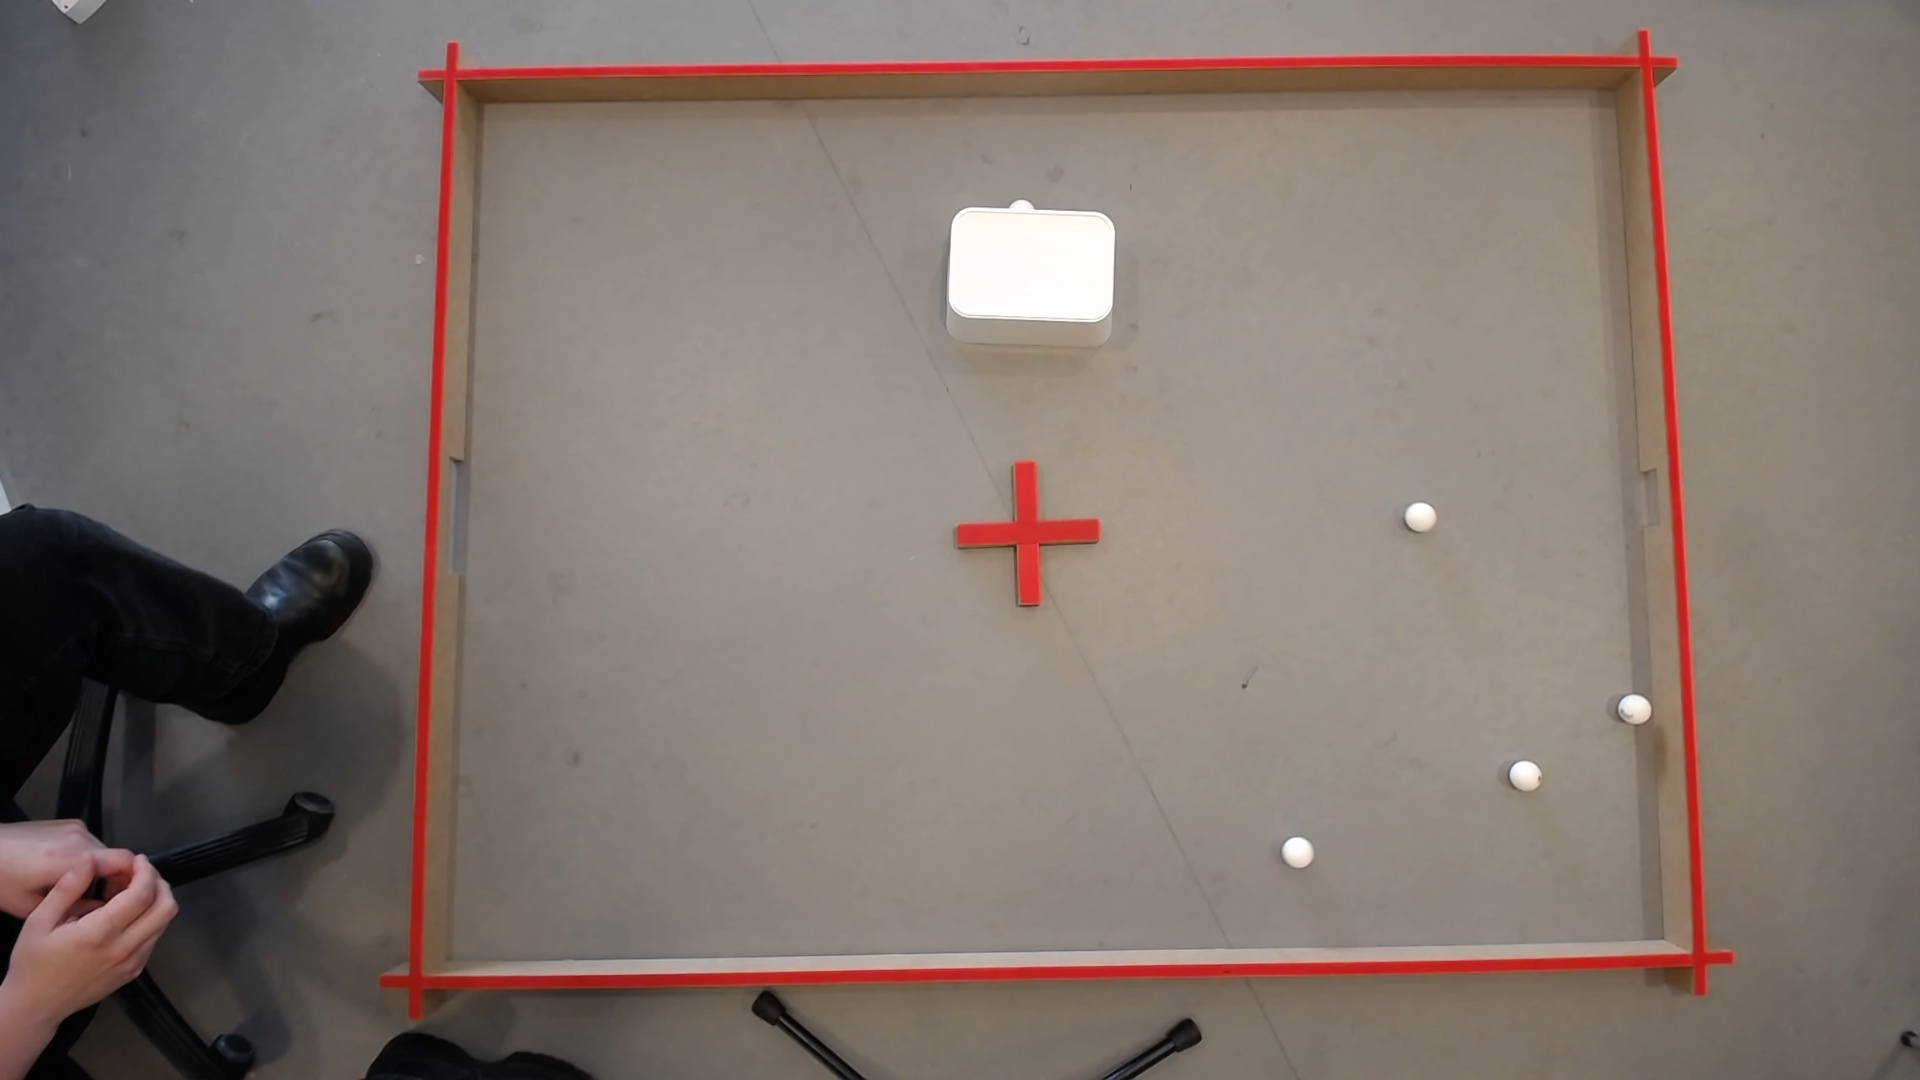balls: (945, 195, 1117, 323), (1279, 831, 1316, 866), (1617, 688, 1654, 721), (1506, 754, 1543, 787)
car: (1406, 502, 1435, 525)
